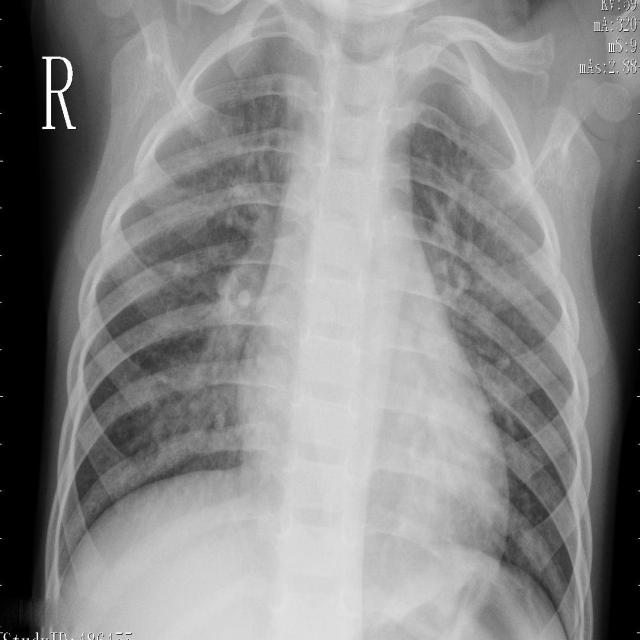low-pneumonia: (178, 238, 274, 416), (435, 194, 505, 336)
